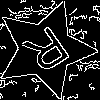R: (20, 24, 78, 83)
